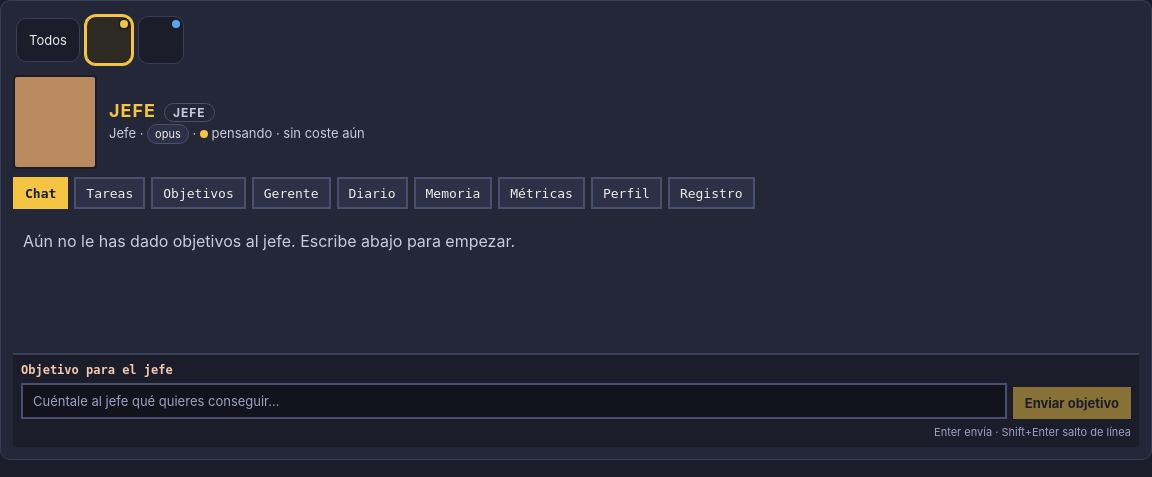
Test case: AgentTabs › el jefe tiene Objetivos, Gerente, Diario y Memoria; un robot trabajador no
Step 1. Click the tab "Gerente" → (291, 193), box [252,177,330,209]
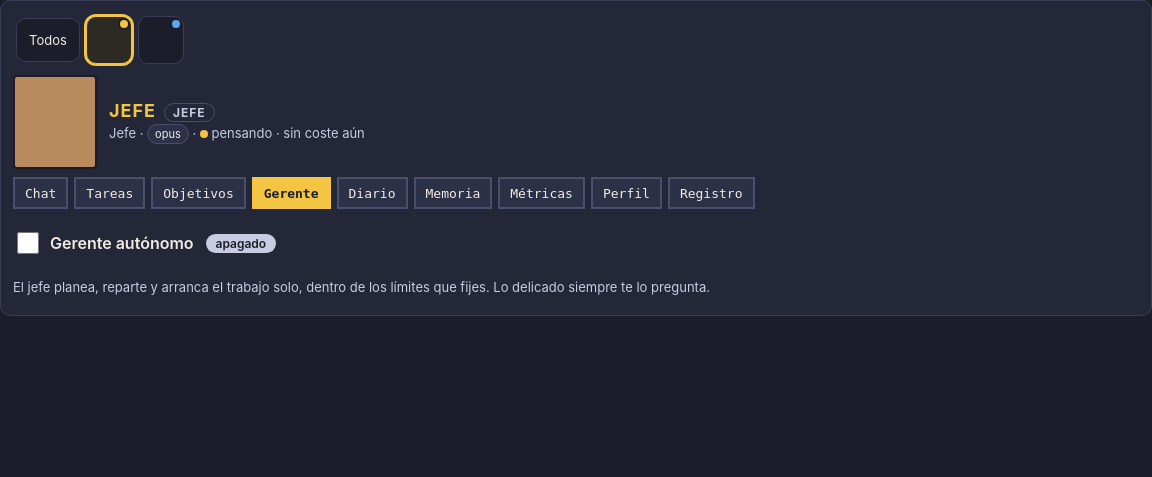
Result: the switch labelled "Gerente autónomo" is shown at [17,232,39,254]
